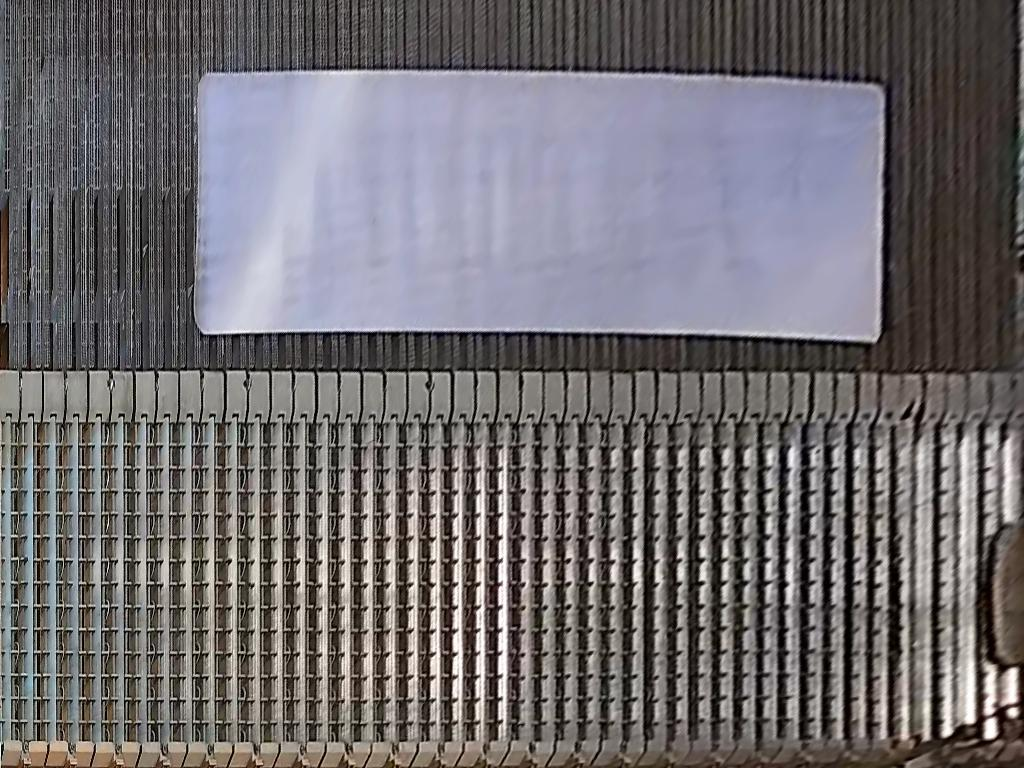steel: (191, 69, 884, 344), (992, 519, 1024, 666)
